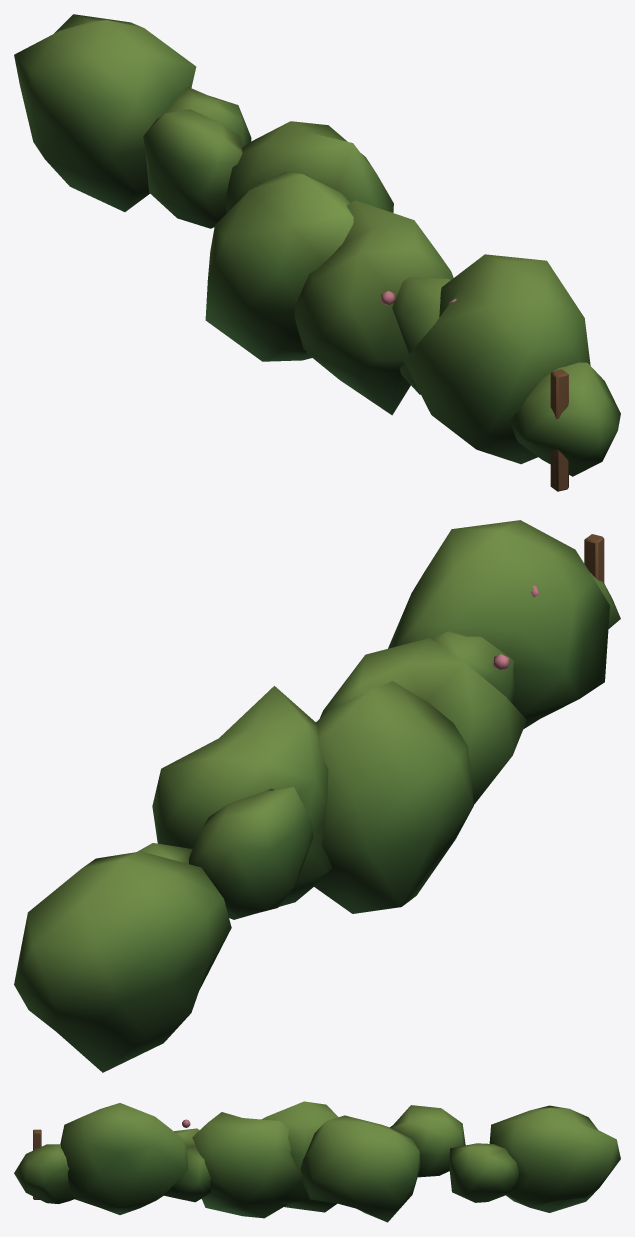
The model's file is hedgerow.glb.
3 renders of one model, top to bottom at view 1: azimuth 30°, elevation 25°; view 2: azimuth 150°, elevation 25°; view 3: azimuth 270°, elevation 25°, orthographic. The views are drawn at different scales.
Parts seen in each view (by area): view 1: hedgerow_mesh; view 2: hedgerow_mesh; view 3: hedgerow_mesh.
Part boxes in pixels (<box>): hedgerow_mesh: <box>14,14,620,491</box>; hedgerow_mesh: <box>14,520,620,1072</box>; hedgerow_mesh: <box>14,1101,620,1222</box>.
Bounding box in the file's own units: 2.59 × 2.48 × 11.38.
